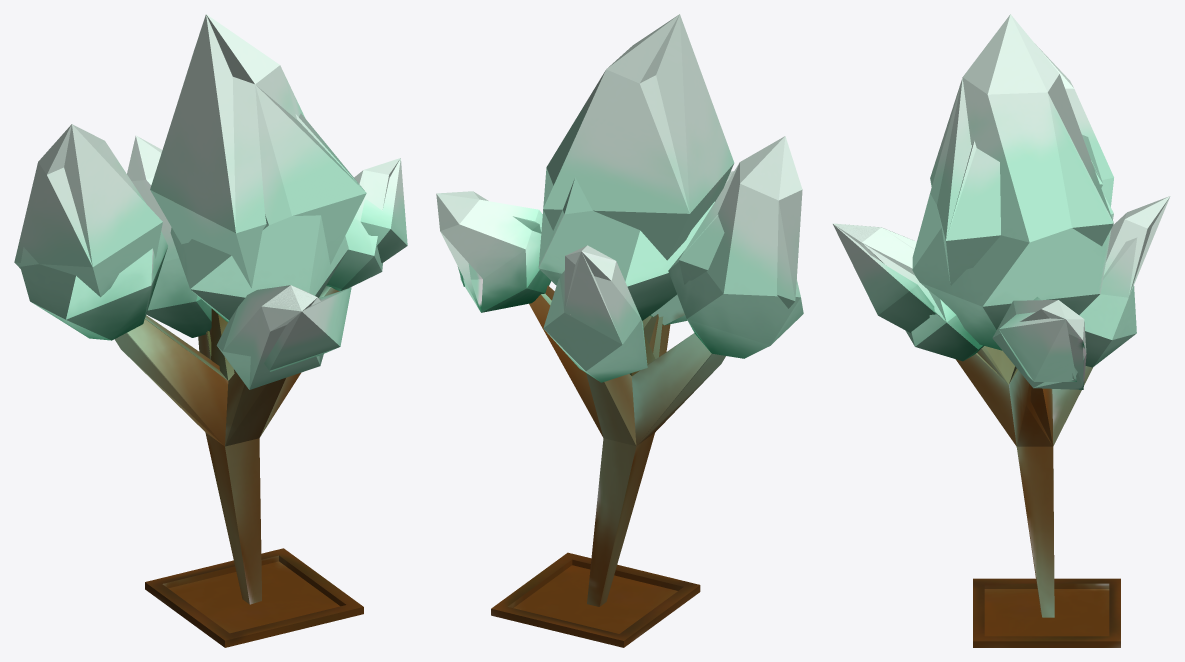
The model's file is E_Tree03.fbx.
3 views of the same model, side by side, from view 1: azimuth 30°, elevation 25°; view 2: azimuth 150°, elevation 25°; view 3: azimuth 270°, elevation 25° (orthographic). The views are drawn at different scales.
Parts seen in each view (by area): view 1: hp_e_tree3, mp_e_tree3, lp_tree3; view 2: hp_e_tree3, mp_e_tree3, lp_tree3; view 3: hp_e_tree3, mp_e_tree3, lp_tree3.
Boxes of the visible parts, x1,y1,x2,y2 form: hp_e_tree3: [20, 14, 400, 647]; mp_e_tree3: [14, 48, 389, 445]; lp_tree3: [64, 14, 407, 446]; hp_e_tree3: [436, 14, 803, 647]; mp_e_tree3: [440, 69, 802, 445]; lp_tree3: [457, 14, 734, 365]; hp_e_tree3: [832, 14, 1170, 647]; mp_e_tree3: [838, 74, 1113, 446]; lp_tree3: [833, 141, 1170, 446].
Size of the model in its own units: 275 by 428 by 228.
